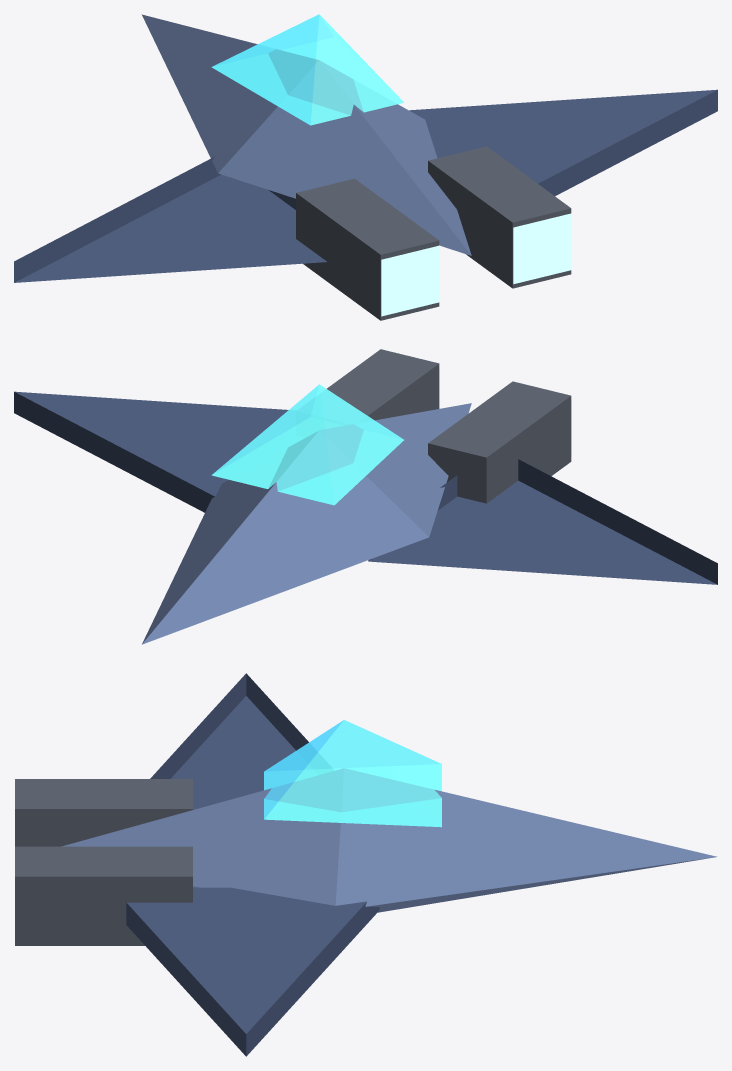
File: spaceship.gltf
3 views of the same model, one above another, from view 1: azimuth 30°, elevation 25°; view 2: azimuth 150°, elevation 25°; view 3: azimuth 270°, elevation 25° (orthographic). The views are drawn at different scales.
Parts seen in each view (by area): view 1: Wings, Hull, Engines, Cockpit, EngineGlow; view 2: Wings, Hull, Engines, Cockpit; view 3: Hull, Wings, Engines, Cockpit.
Boxes of the visible parts, left/top/right/bottom form: Wings: left=14, top=89, right=717, bottom=282; Hull: left=141, top=14, right=471, bottom=255; Engines: left=296, top=146, right=571, bottom=320; Cockpit: left=211, top=14, right=403, bottom=125; EngineGlow: left=381, top=213, right=571, bottom=316; Wings: left=14, top=391, right=717, bottom=584; Hull: left=142, top=403, right=471, bottom=644; Engines: left=327, top=349, right=571, bottom=503; Cockpit: left=211, top=384, right=403, bottom=505; Hull: left=61, top=768, right=717, bottom=912; Wings: left=126, top=673, right=379, bottom=1056; Engines: left=15, top=779, right=192, bottom=945; Cockpit: left=264, top=720, right=441, bottom=827.
Size of the model in its own units: 4.8 by 1.23 by 3.96.
